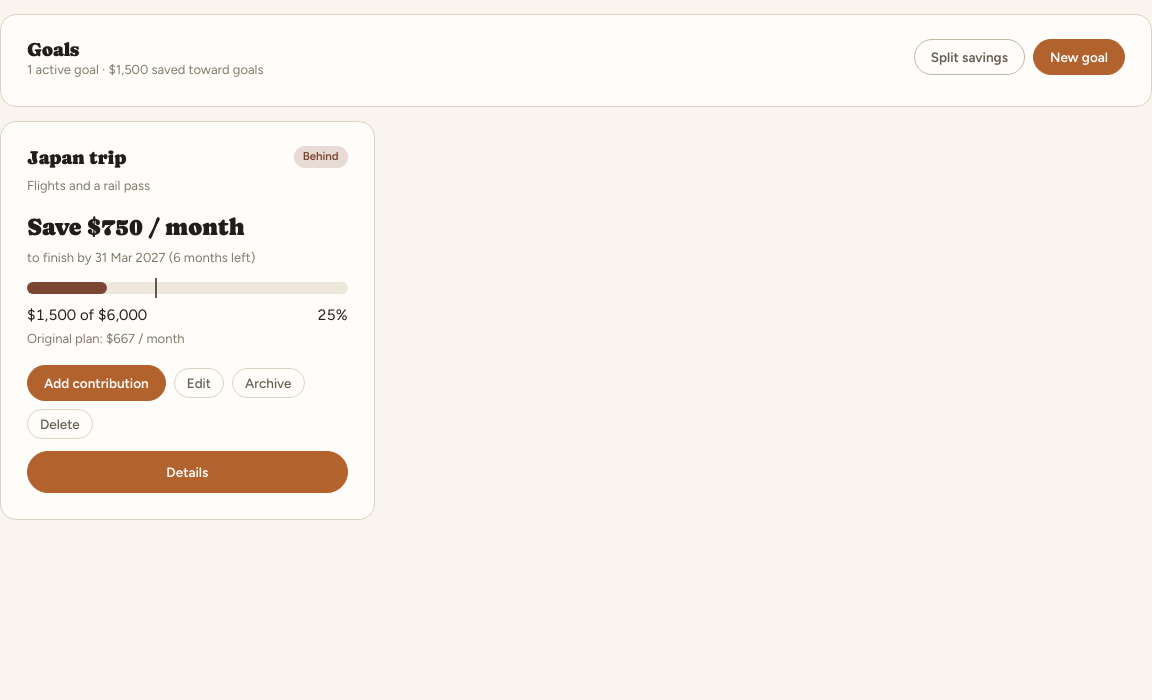
Test case: Goals › edits a Goal from a pre-filled form and saves the changes
The image size is (1152, 700).
Click the button "Edit". click: (199, 383)
box: [174,368,224,398]
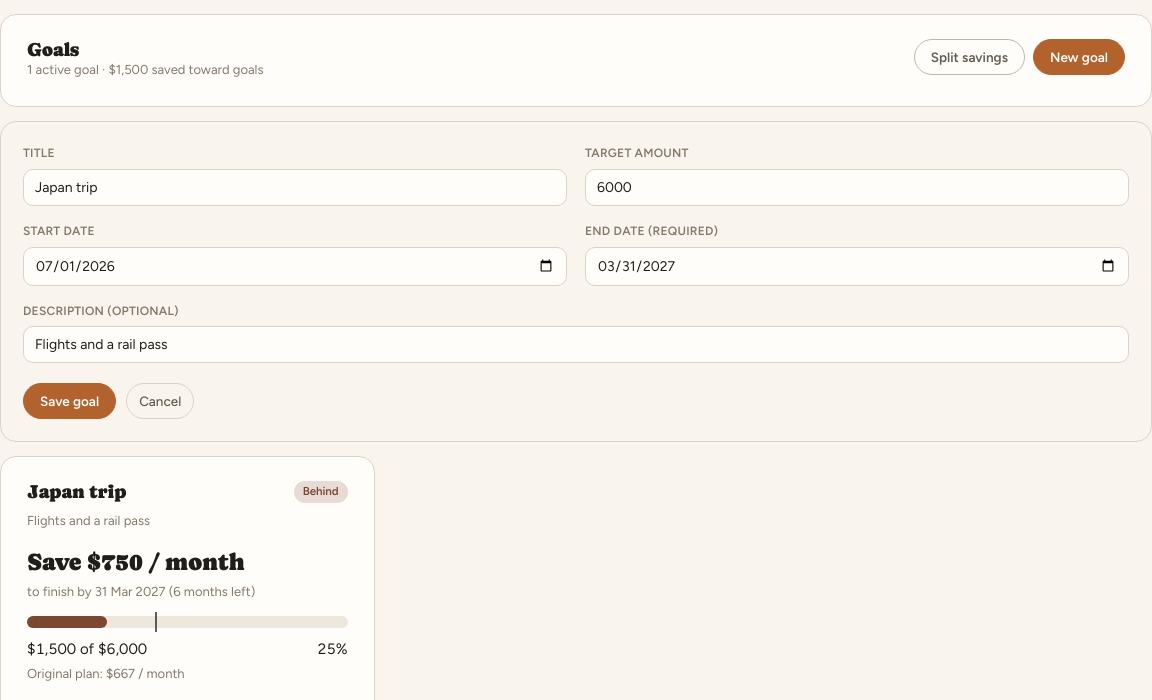
Check: the field labelled "Title" holds "Japan trip"
Check: the number field labelled "Target amount" holds "6000", box [585,169,1129,206]
Check: the date field labelled "Start date" holds "2026-07-01", box [23,247,567,286]
Replace the text in the field labelled "Title" with "Japan 2027". click: (295, 188)
box: [23,169,567,206]
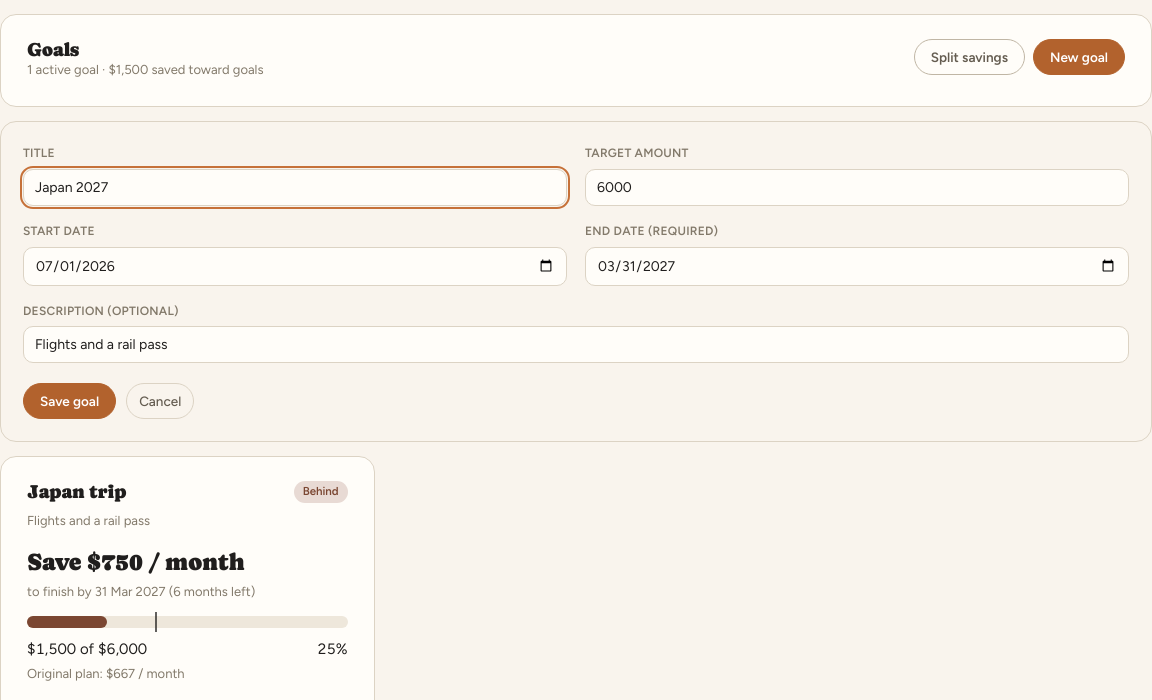
Click the button "Save goal". click: (70, 401)
box: [23,383,116,419]
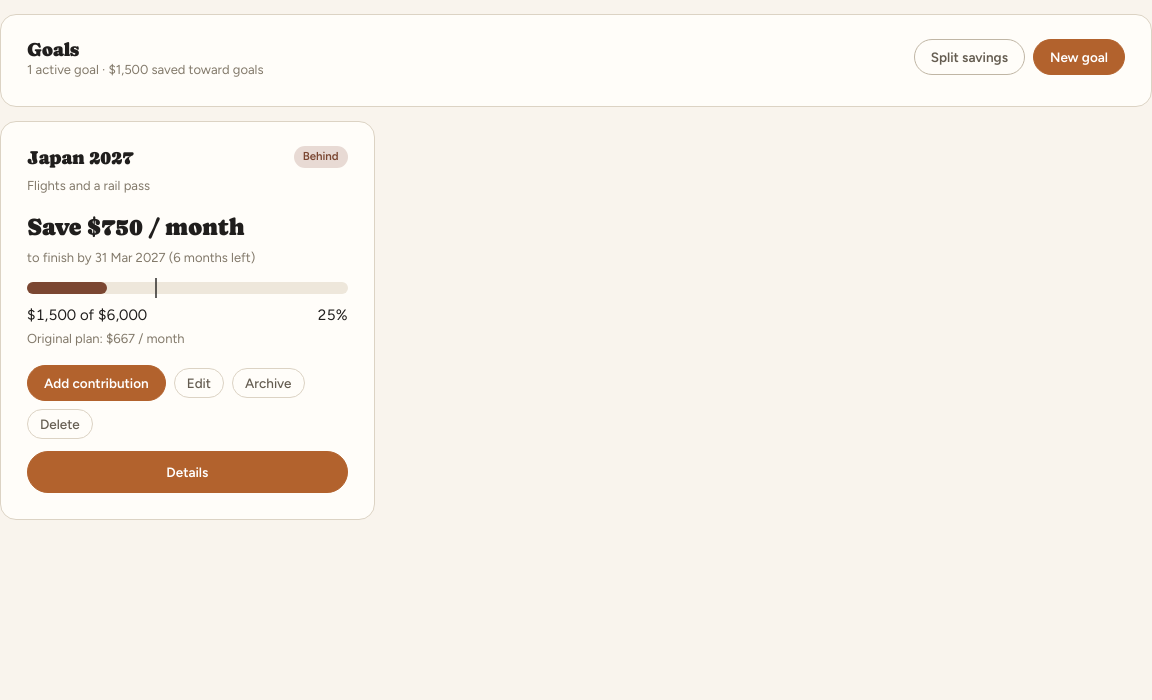
Check: the heading "Japan 2027" is shown, box [27,147,133,168]
